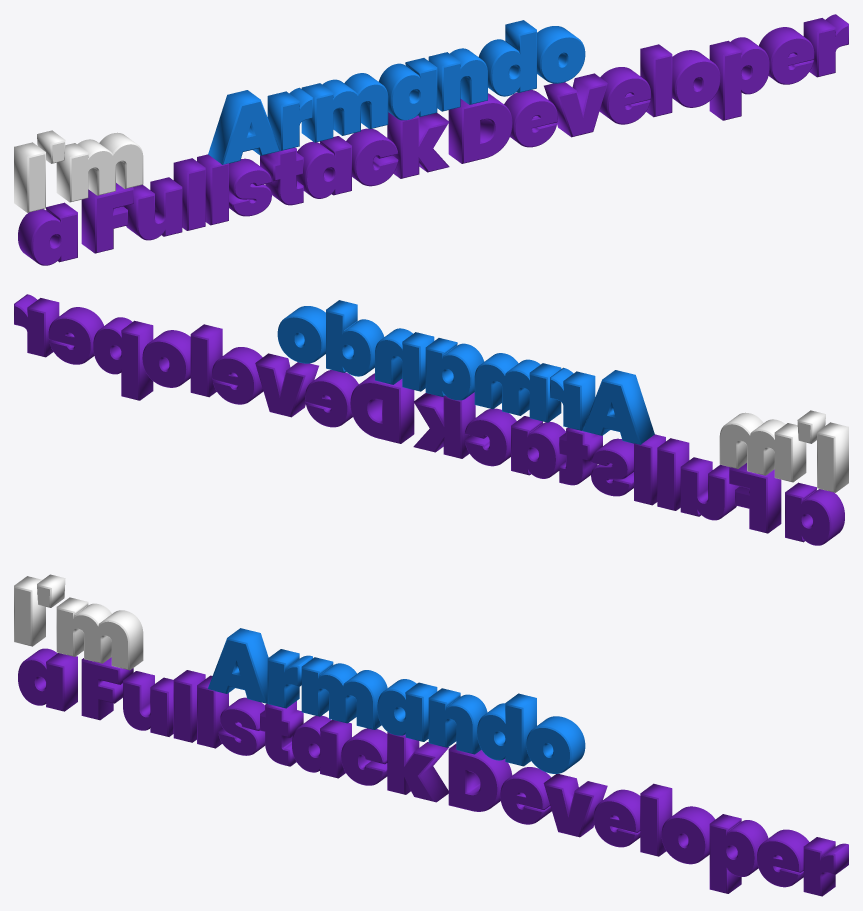
3 views of the same model, one above another, from view 1: azimuth 30°, elevation 25°; view 2: azimuth 150°, elevation 25°; view 3: azimuth 330°, elevation 25° (orthographic).
Parts seen in each view (by area): view 1: Text.001, Text, Im; view 2: Text.001, Text, Im; view 3: Text.001, Text, Im.
Part boxes in pixels (box(x1,y1,x2,y2)): Text.001: box(18, 14, 848, 265); Text: box(208, 20, 585, 164); Im: box(14, 130, 143, 212); Text.001: box(14, 294, 844, 545); Text: box(277, 300, 654, 444); Im: box(719, 410, 848, 492); Text.001: box(18, 648, 848, 896); Text: box(208, 628, 585, 773); Im: box(14, 574, 143, 670).
Size of the model in its own units: 6.44 by 1.06 by 0.2.
